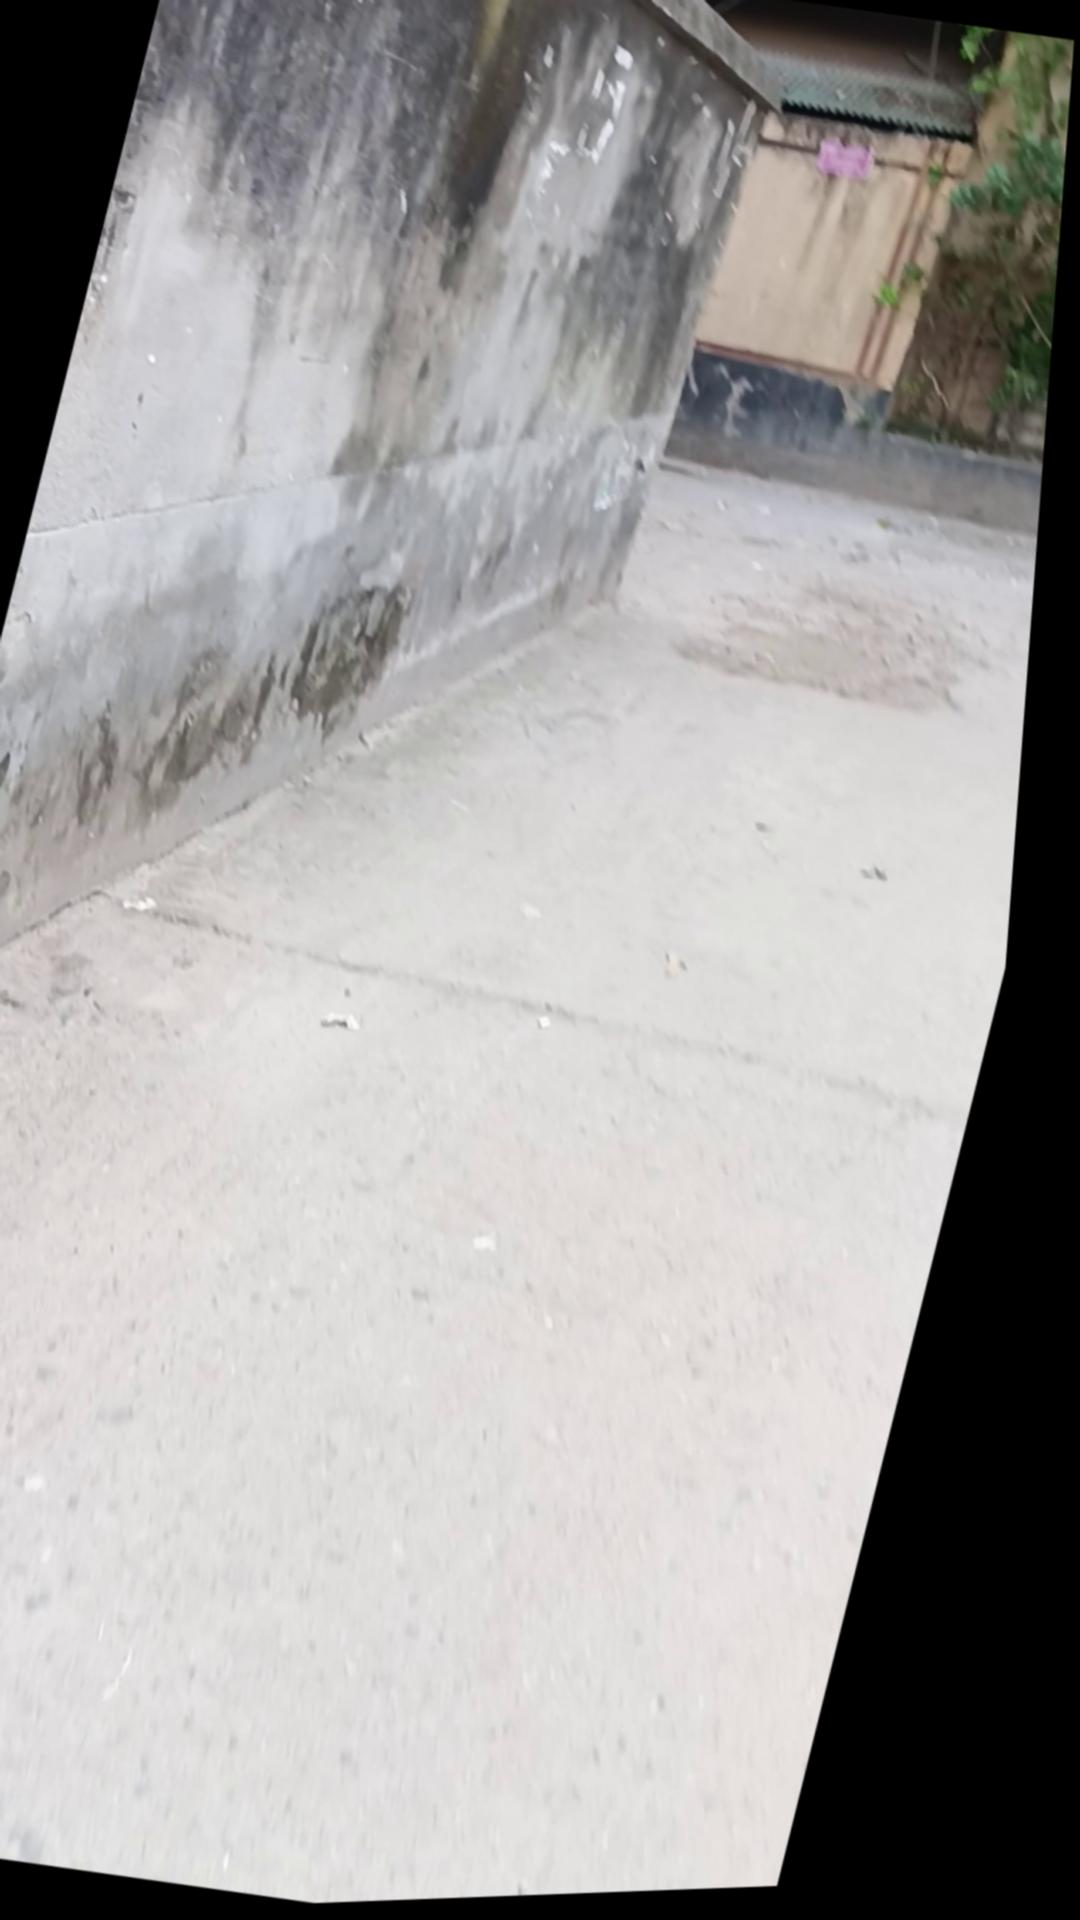Crosswalk: (655, 390, 1055, 570)
Potted-plant: (0, 339, 1059, 1920)
Tree: (0, 0, 814, 1096)
